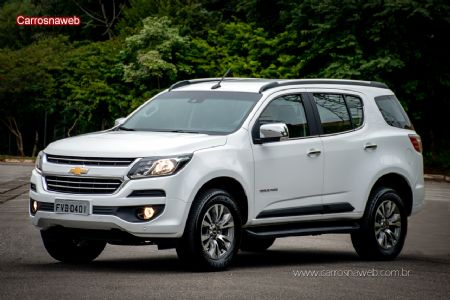pickup: (26, 75, 427, 271)
